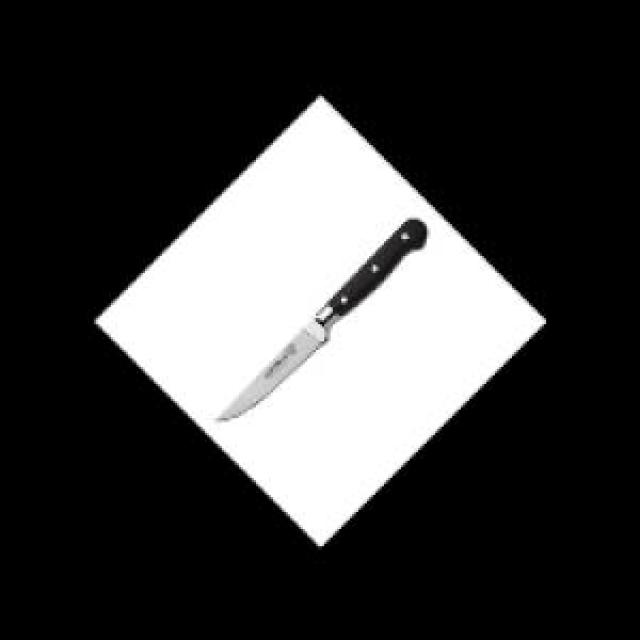knife: (216, 216, 434, 422)
